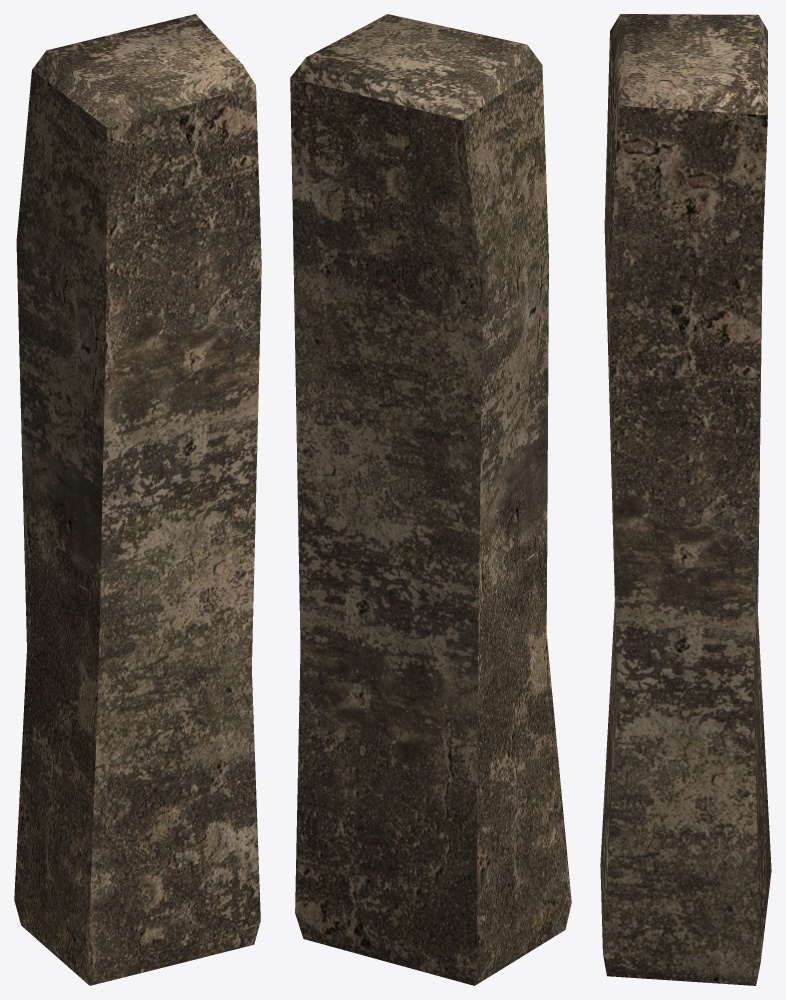
The model's file is materials_5_pillar_short_2.fbx.
3 views of the same model, side by side, from view 1: azimuth 30°, elevation 25°; view 2: azimuth 150°, elevation 25°; view 3: azimuth 270°, elevation 25° (orthographic). The views are drawn at different scales.
Visible parts, largest first — view 1: materials_5_pillar_short_2; view 2: materials_5_pillar_short_2; view 3: materials_5_pillar_short_2.
Part boxes in pixels (<box>): materials_5_pillar_short_2: <box>14,14,261,985</box>; materials_5_pillar_short_2: <box>290,14,571,985</box>; materials_5_pillar_short_2: <box>600,14,771,985</box>.
Bounding box in the file's own units: 16.58 × 70.38 × 12.2.
